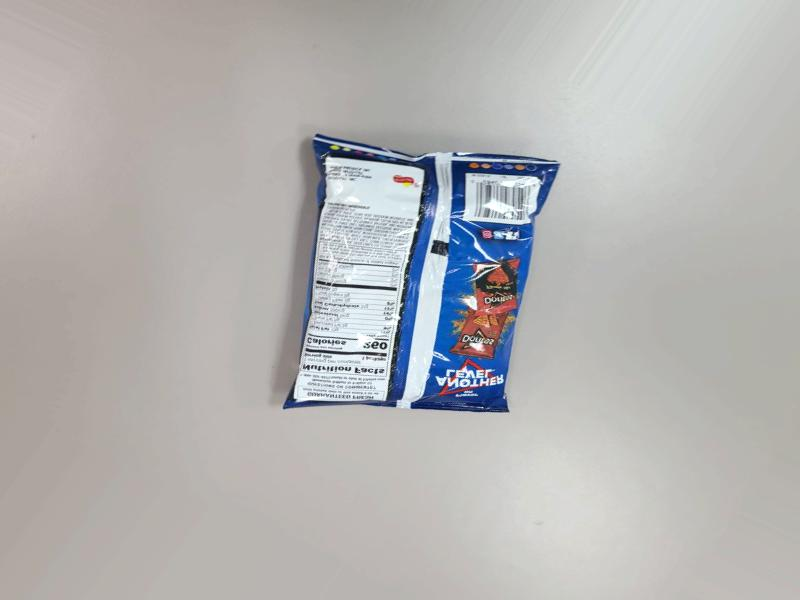doritos: (273, 121, 539, 444)
